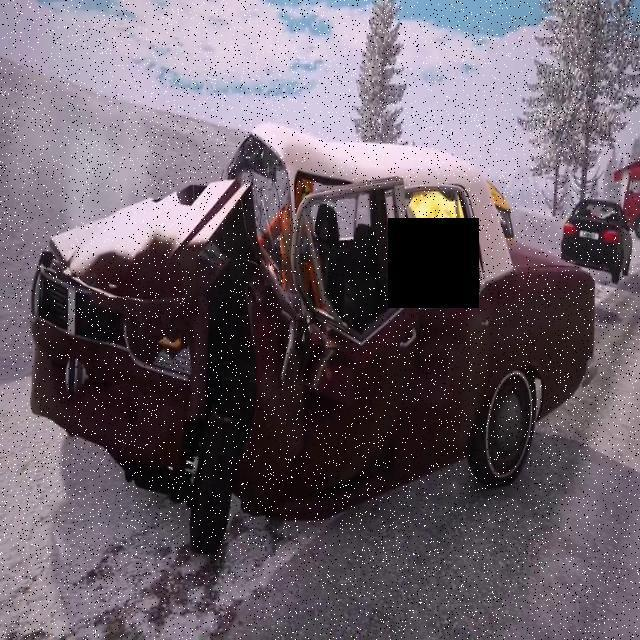normal: (554, 177, 637, 317)
single accident: (157, 119, 569, 494)
